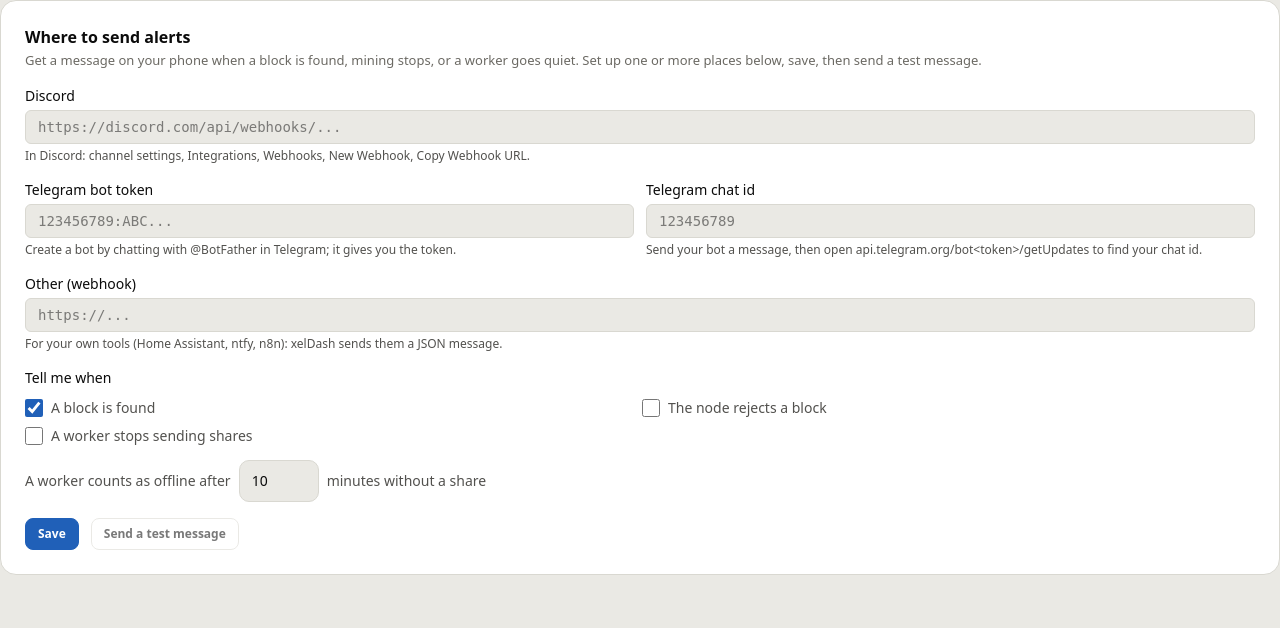
without the admin token everything is read-only, and a refused token is reported upwards
The width and height of the screenshot is (1280, 628).
Click the button "Save" at x=52, y=534, box left=25, top=518, right=79, bottom=550
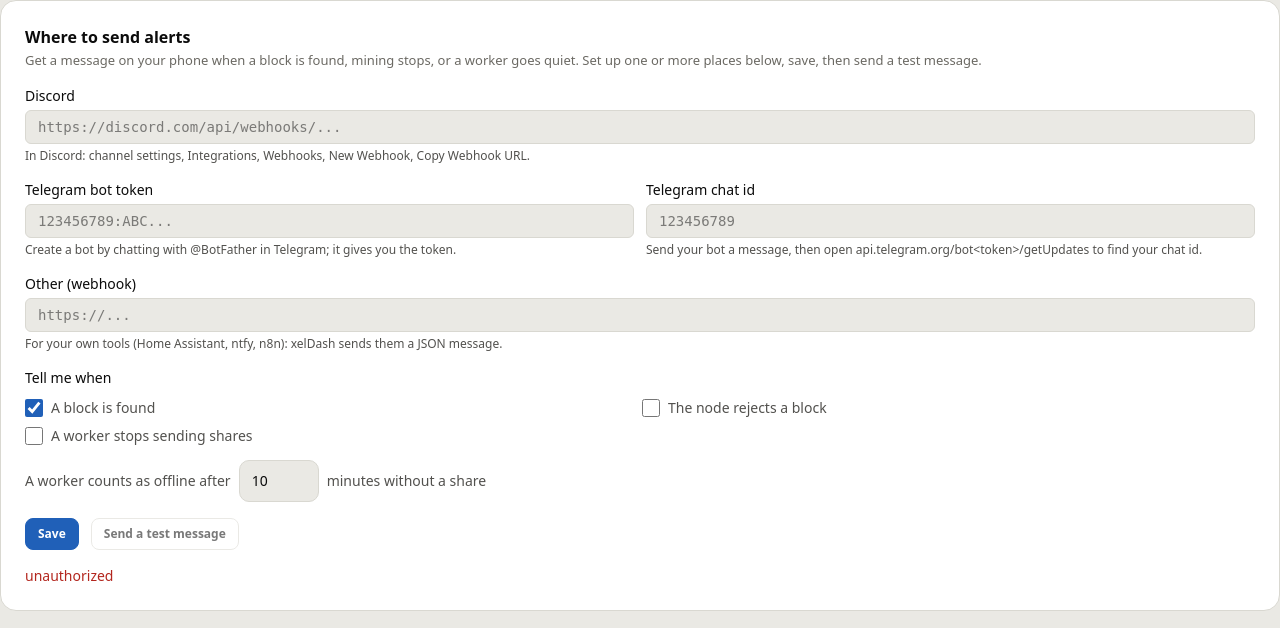
Expected: the message "unauthorized" is shown, left=25, top=566, right=114, bottom=585
